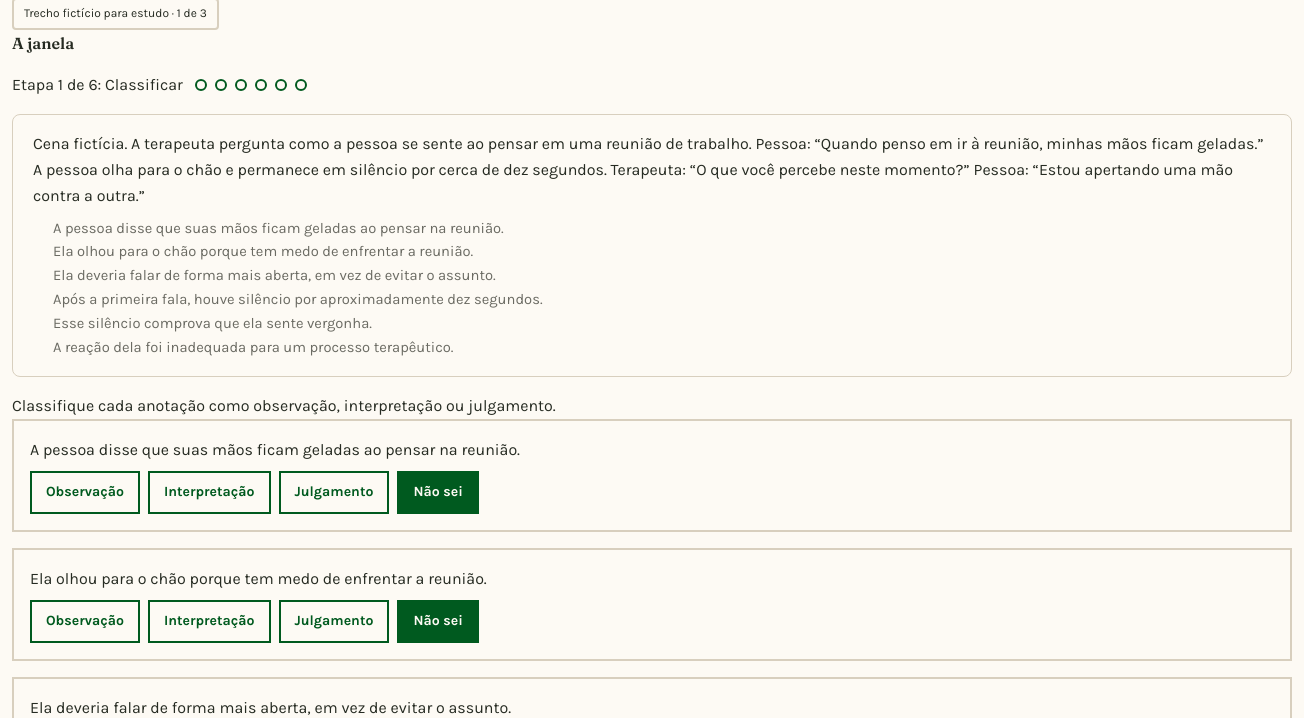
Laboratório: mostra a chave docente só depois e não trata leitura diferente como erro
Expected: the heading "A janela" is shown, x1=12 y1=32 x2=74 y2=52
Click the 2nd button "Observação" at point(85, 621), box x1=30 y1=600 x2=140 y2=643
(page scrolled)
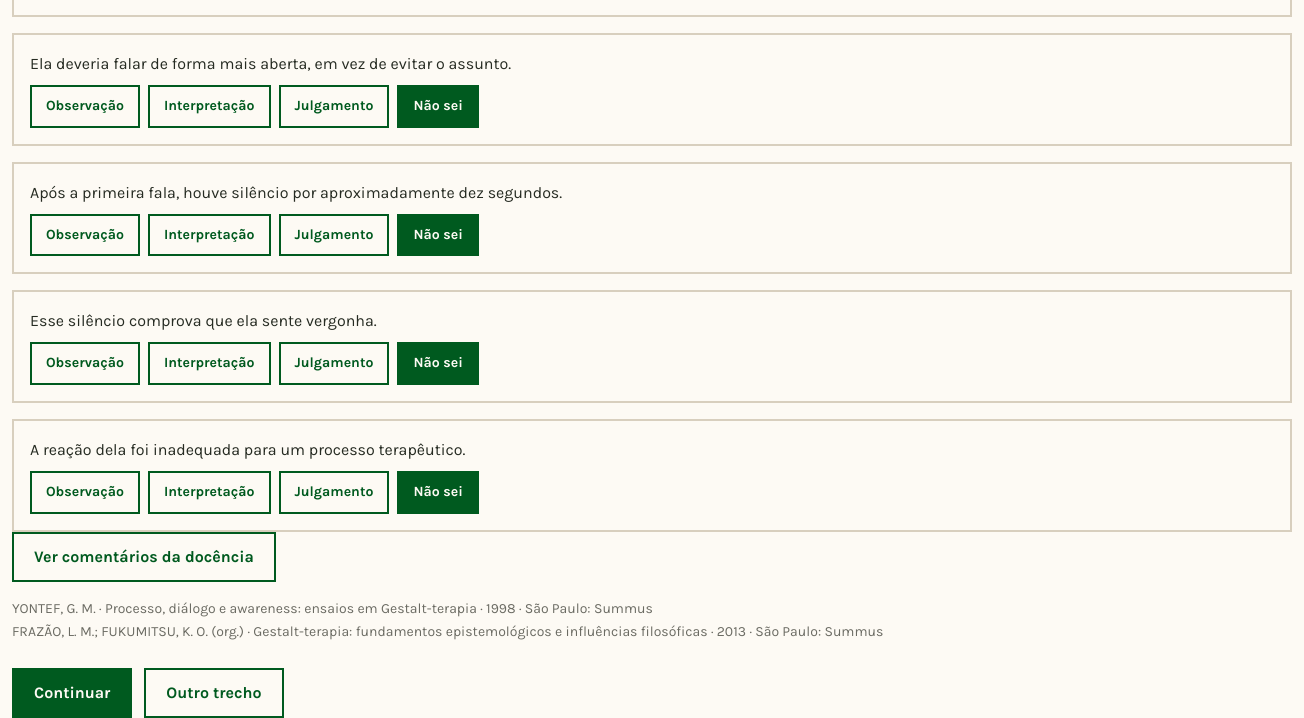
Expected: the text "Leitura docente" is not shown
Click the button "Ver comentários da docência" at point(144, 557), box x1=12 y1=532 x2=276 y2=582
(page scrolled)
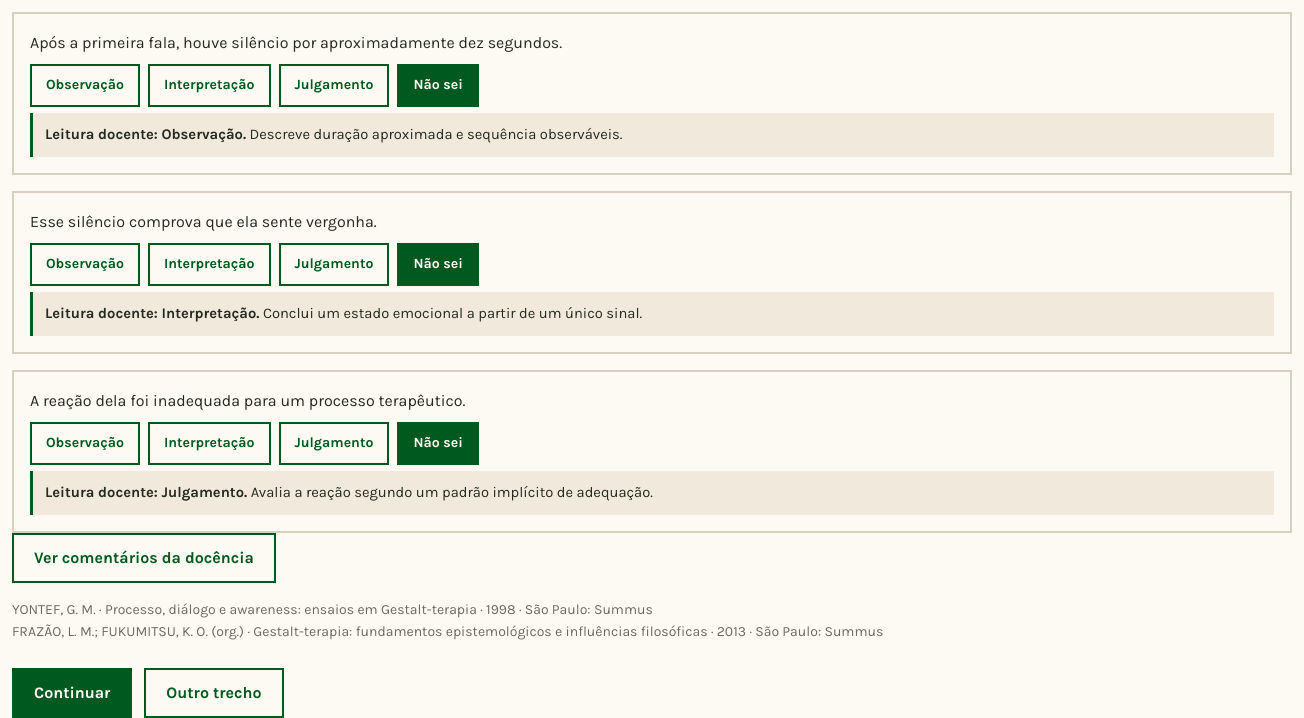
Click the button "Continuar" at point(72, 693), box x1=12 y1=668 x2=132 y2=717
(page scrolled)
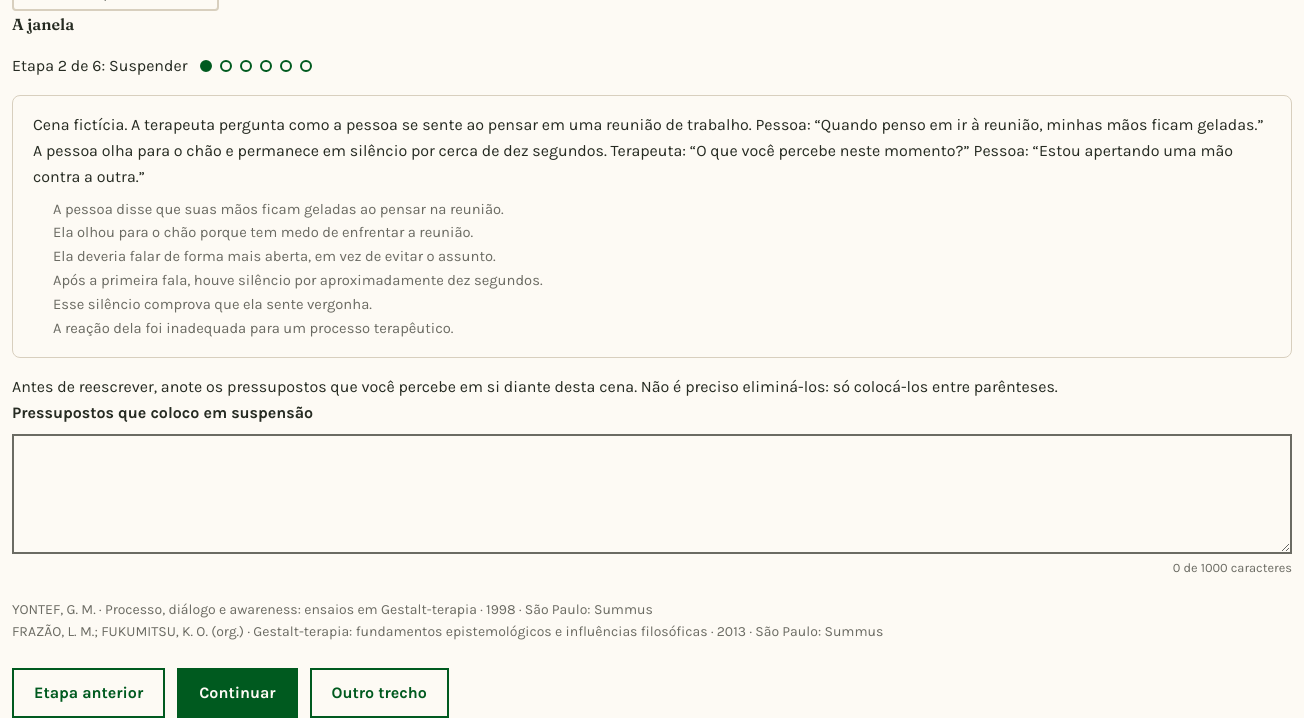
Click the button "Continuar" at point(237, 693), box x1=177 y1=668 x2=298 y2=717
(page scrolled)
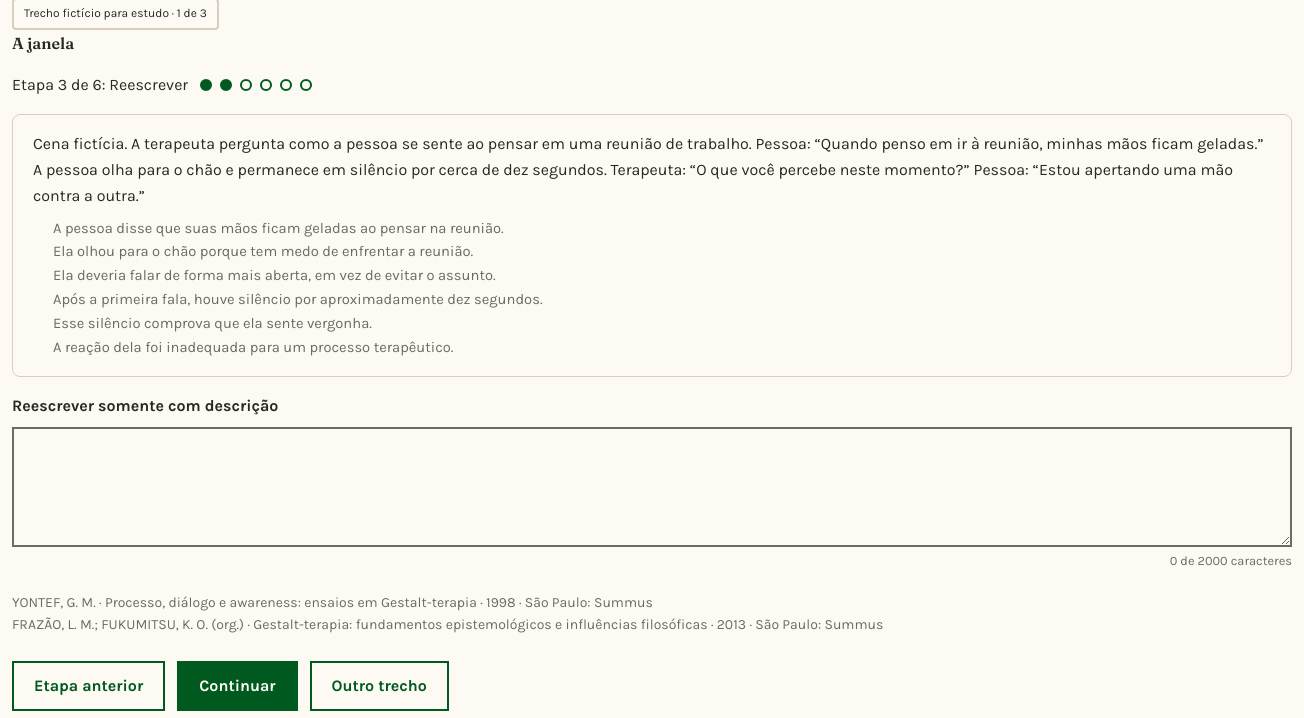
Click the button "Continuar" at point(237, 686), box x1=177 y1=661 x2=298 y2=711
(page scrolled)
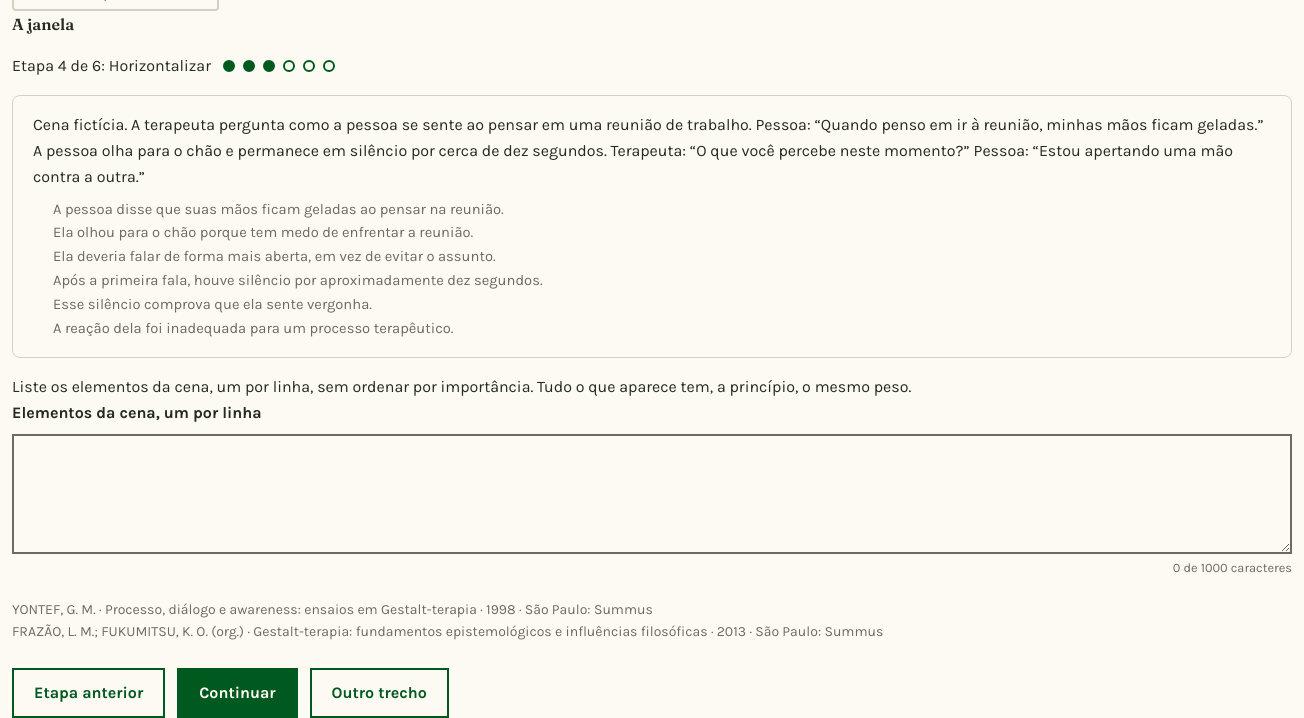
Click the button "Continuar" at point(237, 693), box x1=177 y1=668 x2=298 y2=717
(page scrolled)
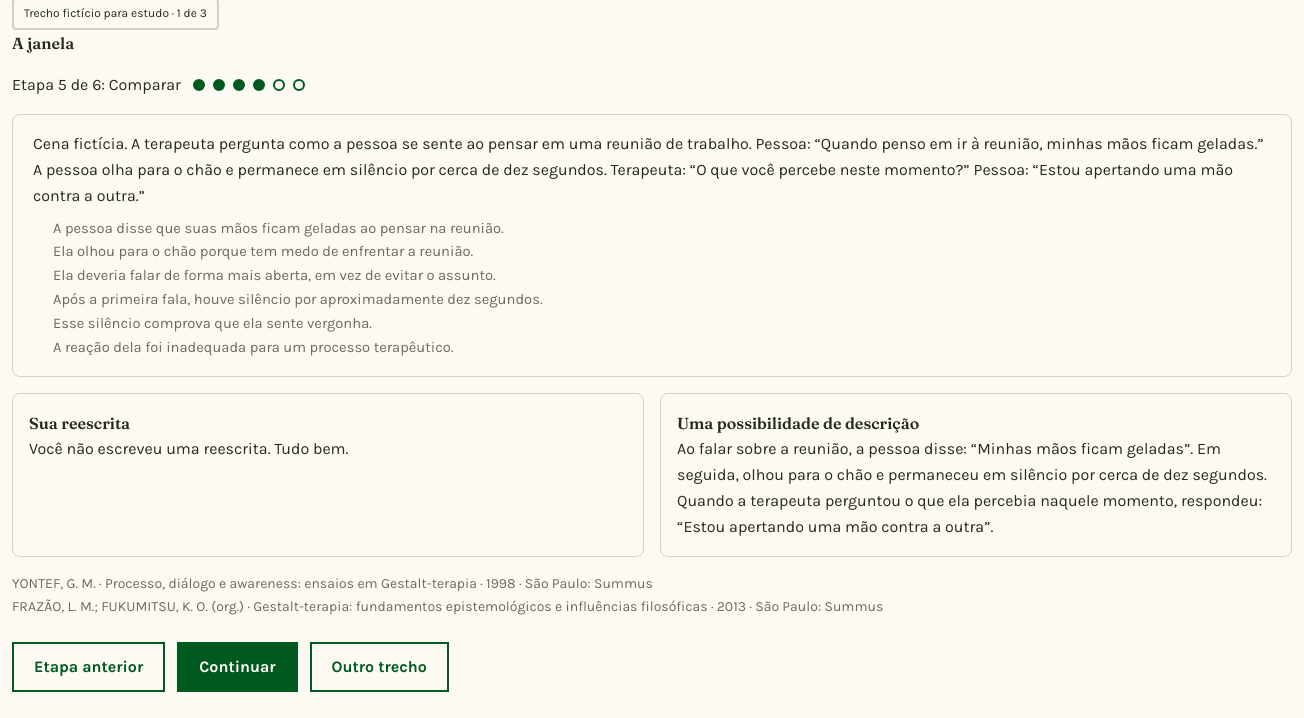
Now the heading "Uma possibilidade de descrição" is shown, box x1=677 y1=413 x2=919 y2=433
